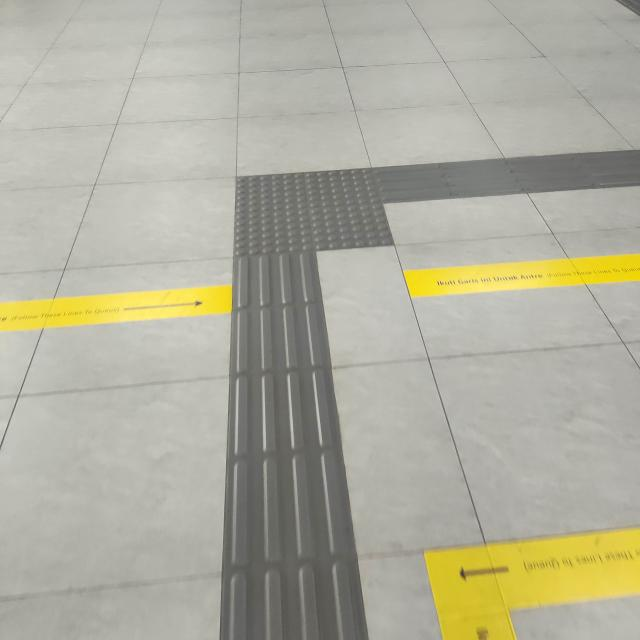kanan: (201, 135, 491, 271)
